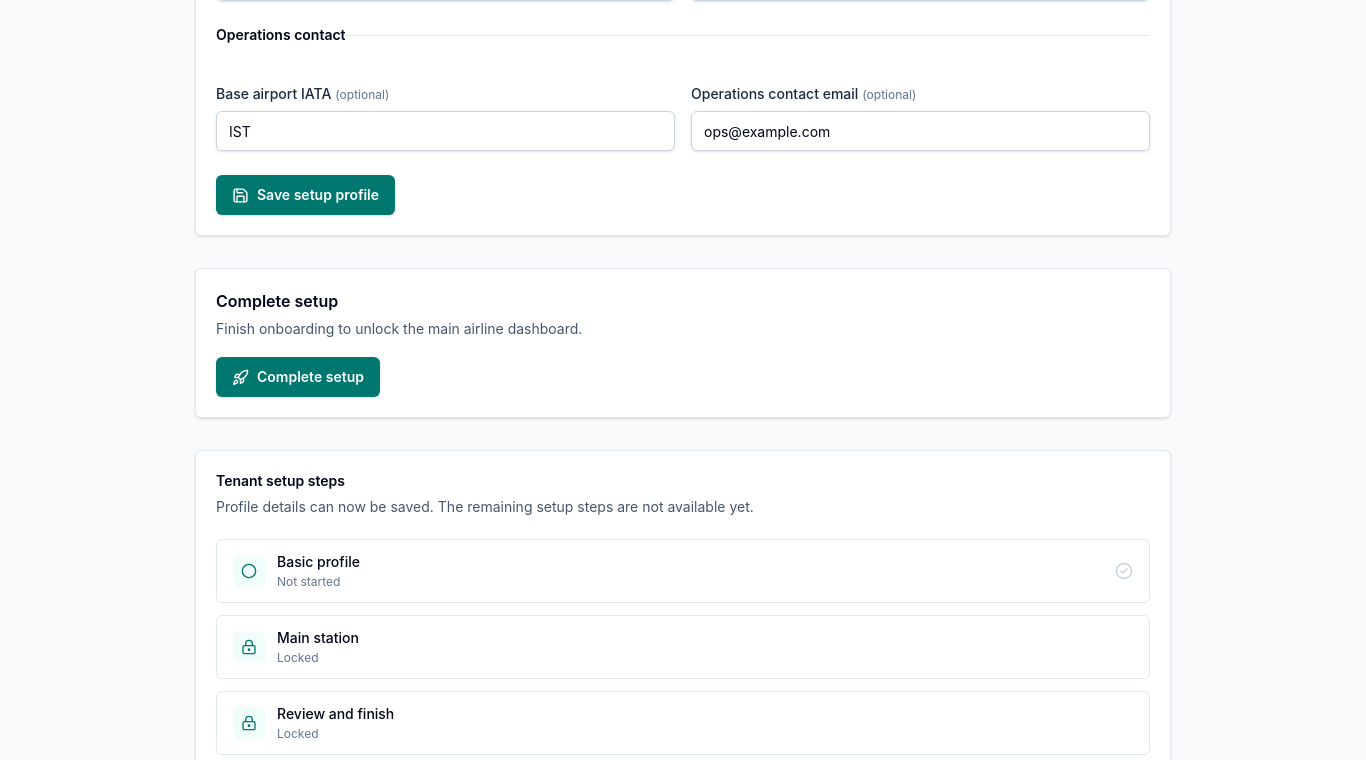
AppSetupPage › keeps setup open and shows a safe message for SETUP_PROFILE_REQUIRED
(page scrolled)
Click the button "Complete setup": [298, 377] box [216, 357, 380, 397]
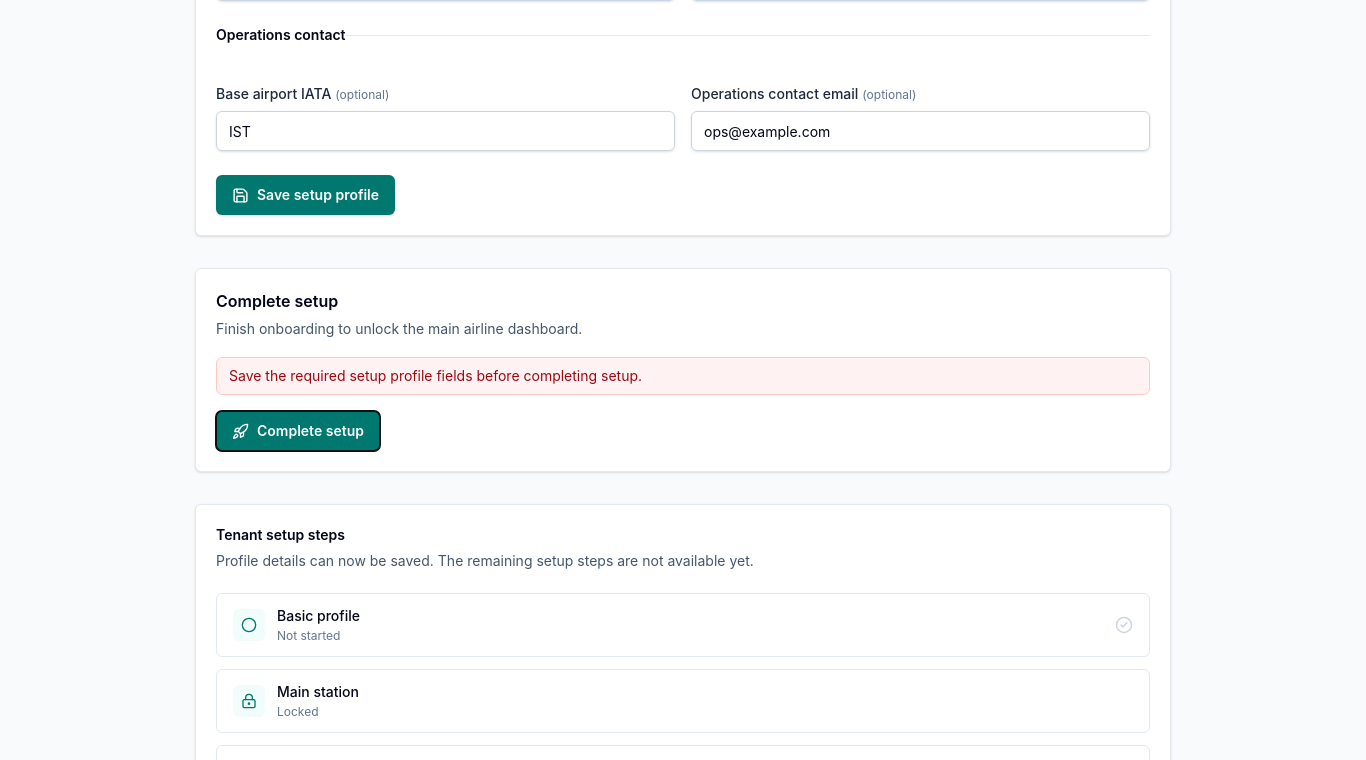
Expected: the button "Complete setup" is shown, [216, 411, 380, 451]
Expected: the message reads "Save the required setup profile fields before completing setup.", [229, 367, 642, 384]
